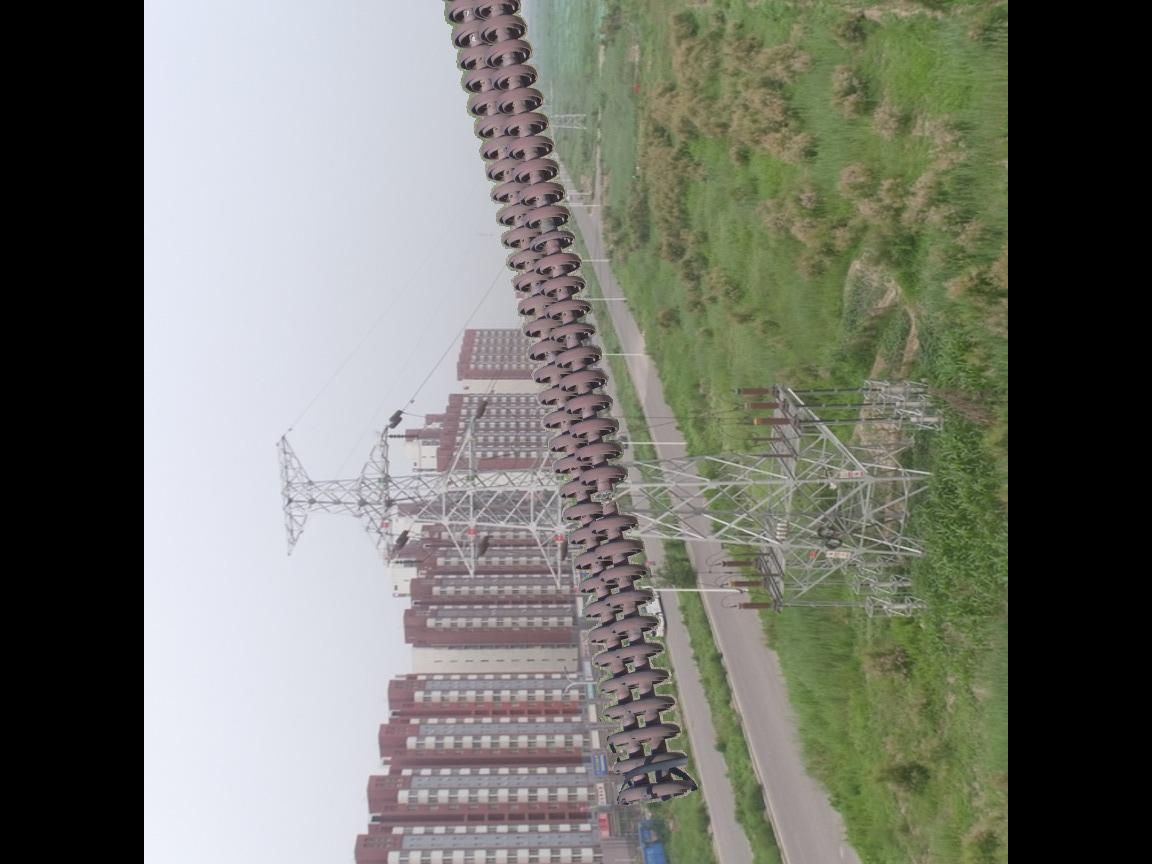insulator: (440, 1, 702, 811)
insulator_stringdrop: (578, 462, 643, 539)
